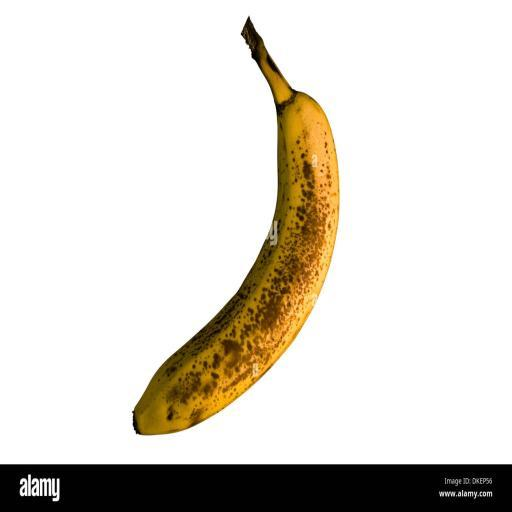banana: (134, 19, 339, 434)
